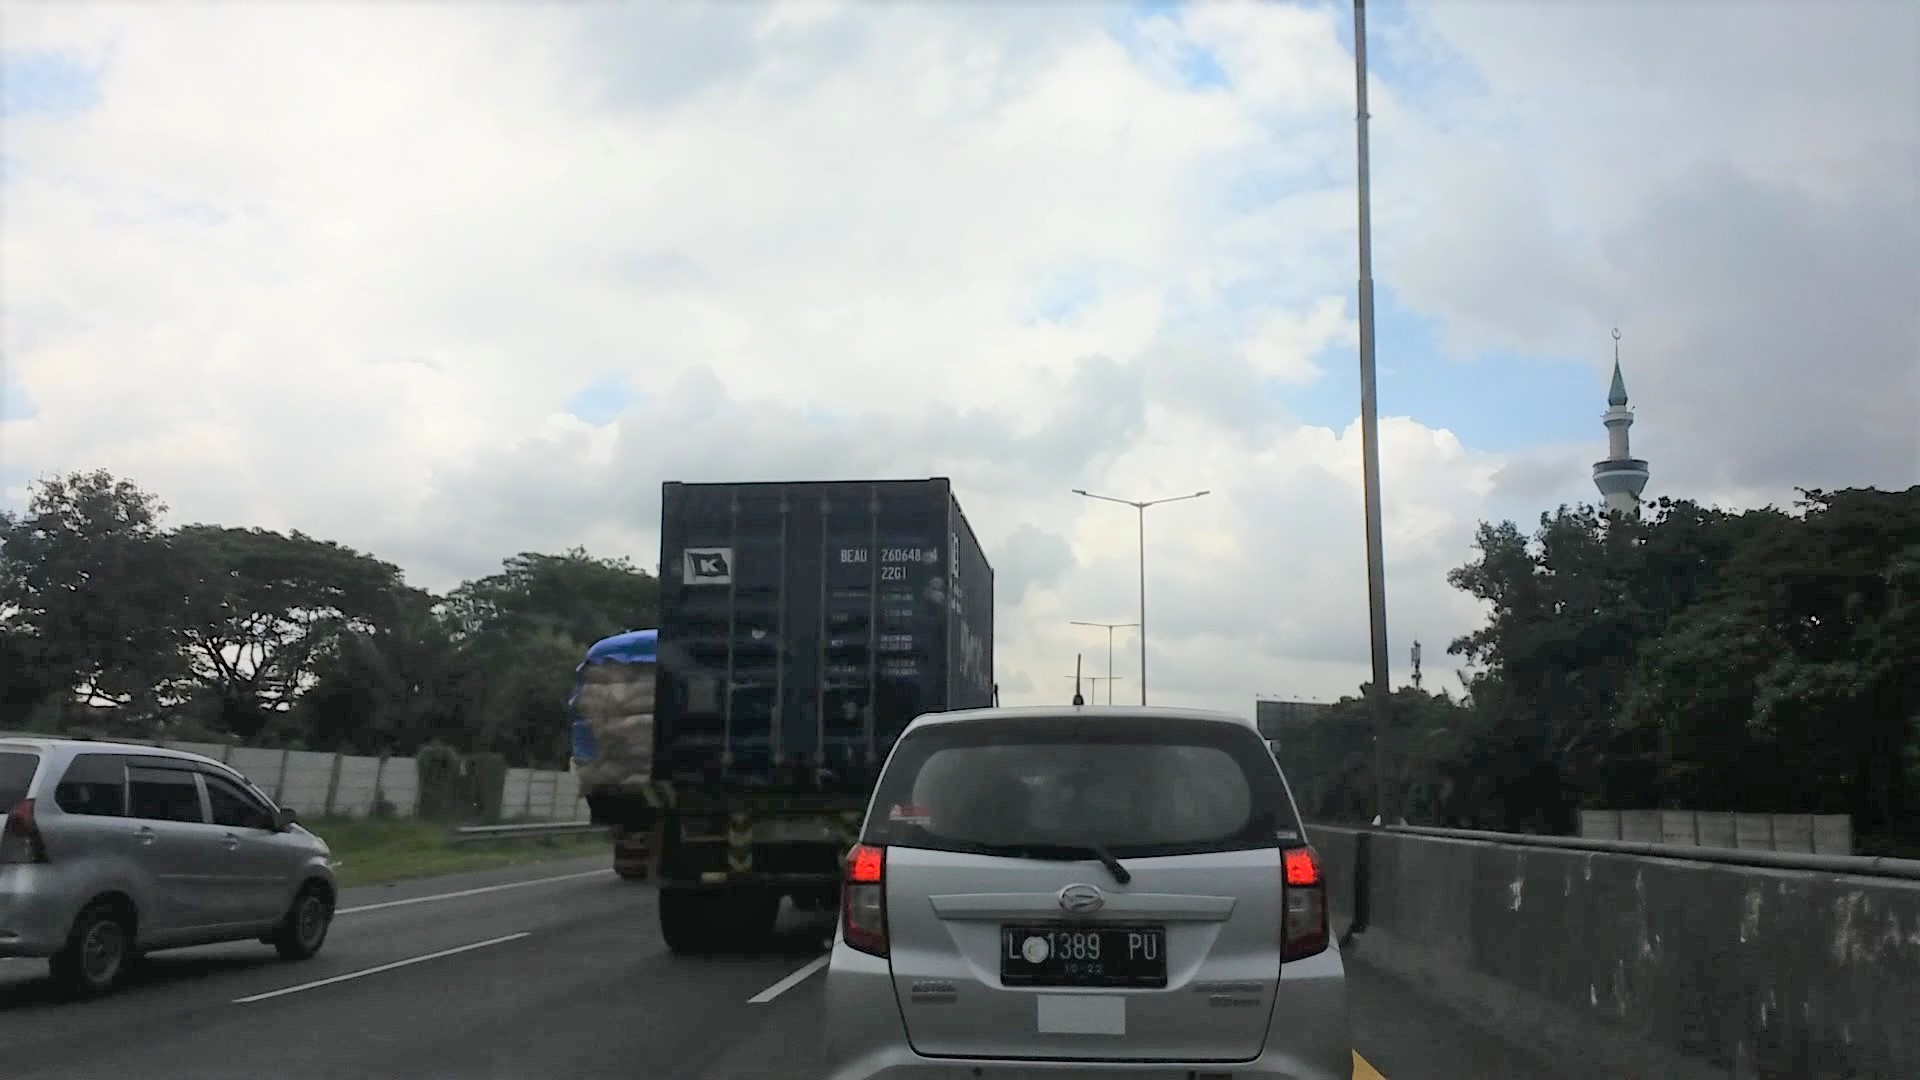plate_positive: (1000, 923, 1167, 989)
